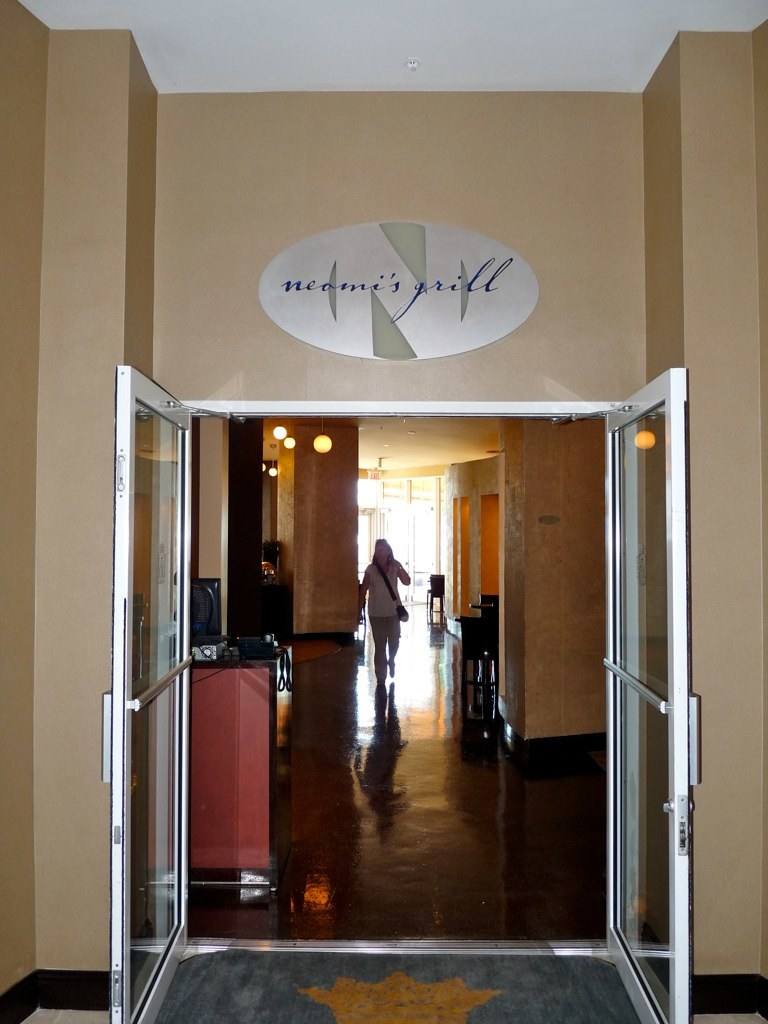Door: (506, 324, 698, 976), (108, 364, 195, 1023)
